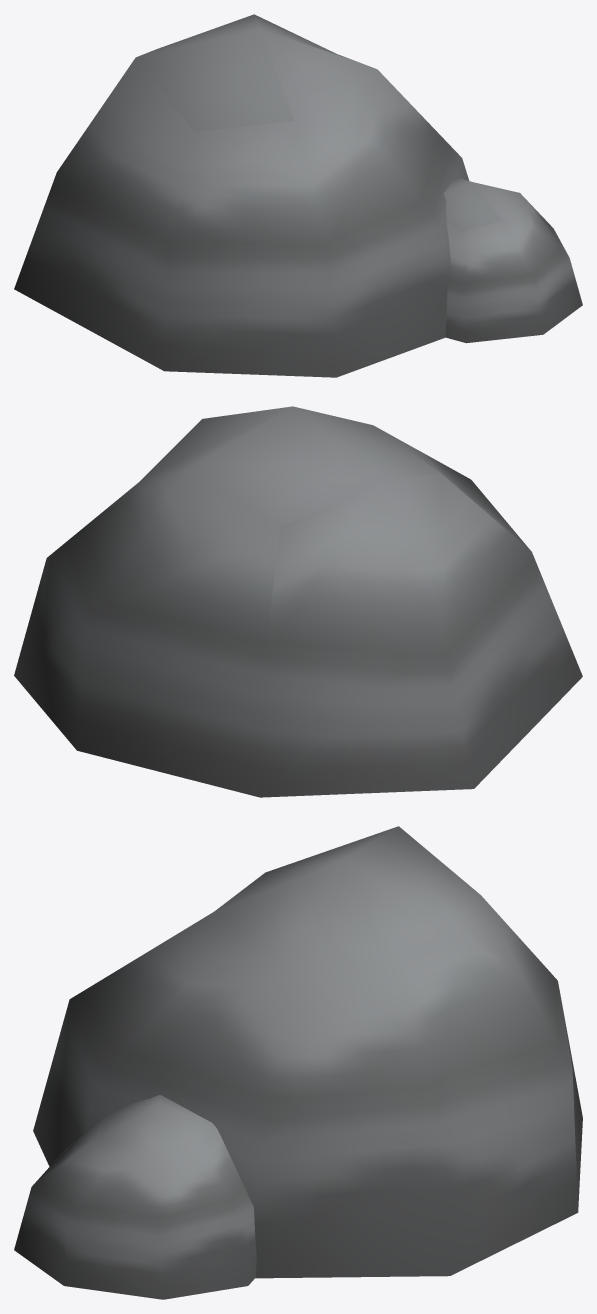
File: MESH_Cailloux01.fbx
3 views of the same model, one above another, from view 1: azimuth 30°, elevation 25°; view 2: azimuth 150°, elevation 25°; view 3: azimuth 270°, elevation 25° (orthographic). The views are drawn at different scales.
Visible parts, largest first — view 1: MESH_Cailloux01; view 2: MESH_Cailloux01; view 3: MESH_Cailloux01.
Boxes of the visible parts, x1=… form: MESH_Cailloux01: x1=14, y1=14, x2=582, y2=377; MESH_Cailloux01: x1=14, y1=406, x2=582, y2=797; MESH_Cailloux01: x1=14, y1=826, x2=582, y2=1299.
Size of the model in its own units: 0.6835 by 0.3693 by 0.6348.
